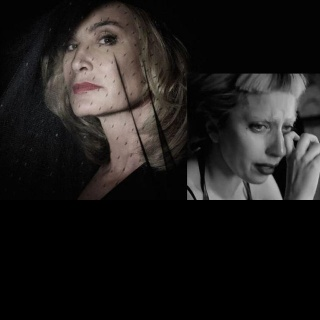without_mask: (63, 0, 146, 116), (217, 91, 297, 185)
